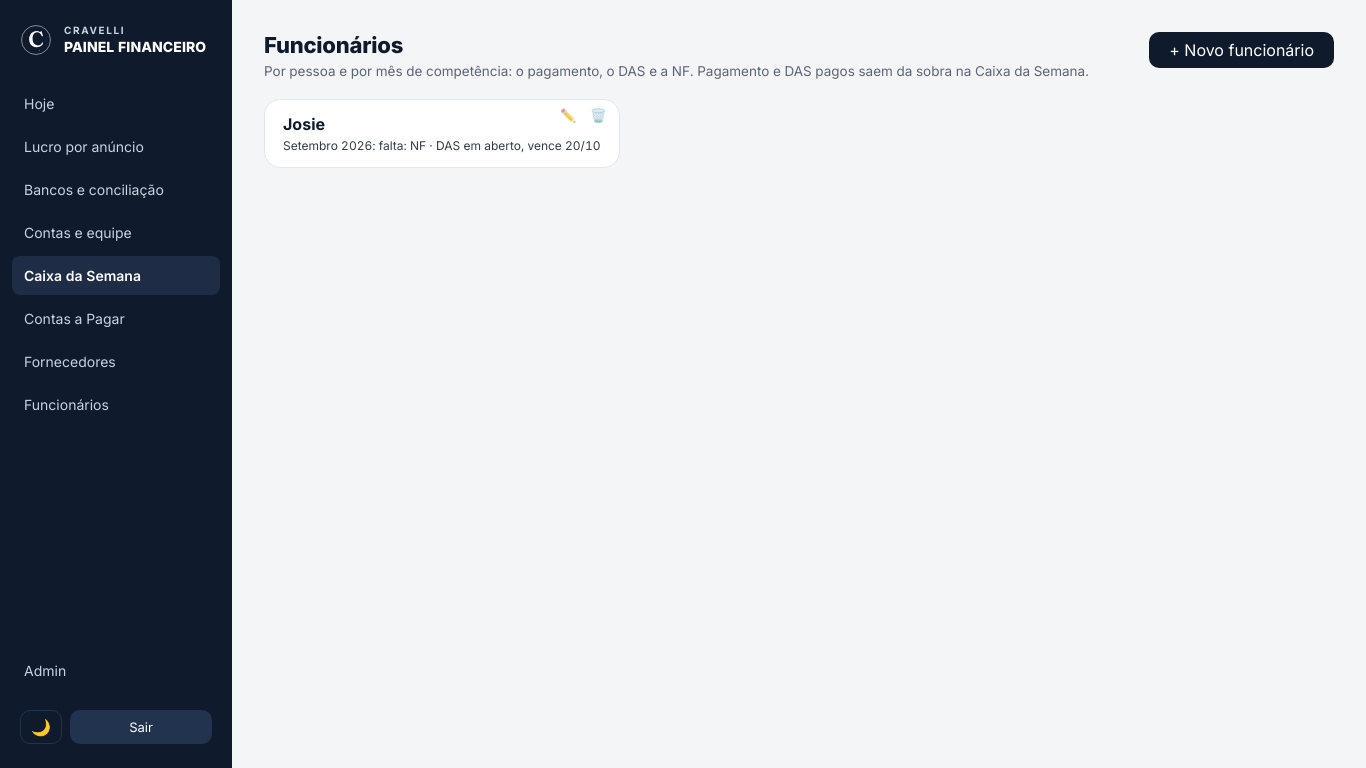
Test case: Funcionários › erro de carga some quando a carga seguinte dá certo
Click the text "Josie" at (304, 124), box [283,114,325,134]
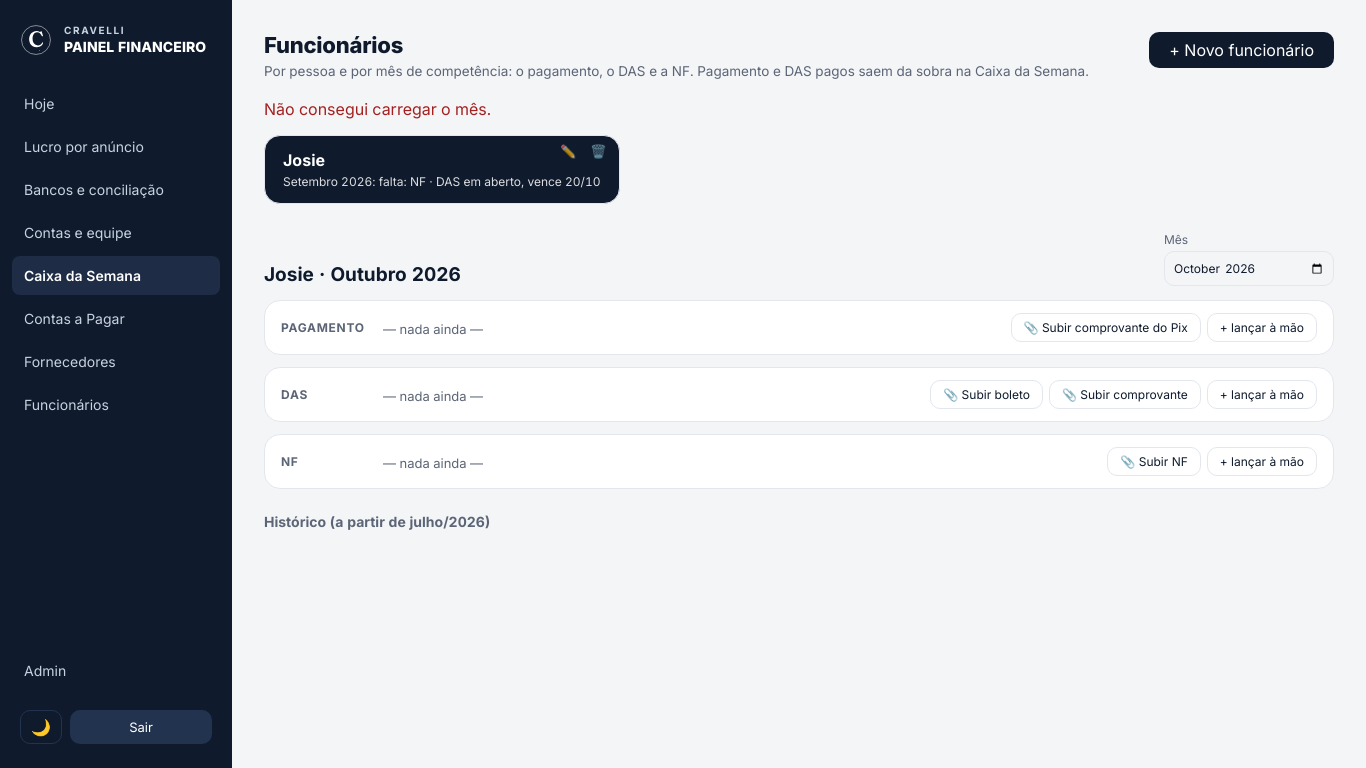
Result: the text "Não consegui carregar o mês." is shown at [264,99,491,119]
Replace the text in the field labelled "Mês" with "2026-08" at (1249, 268), box [1164,251,1334,286]
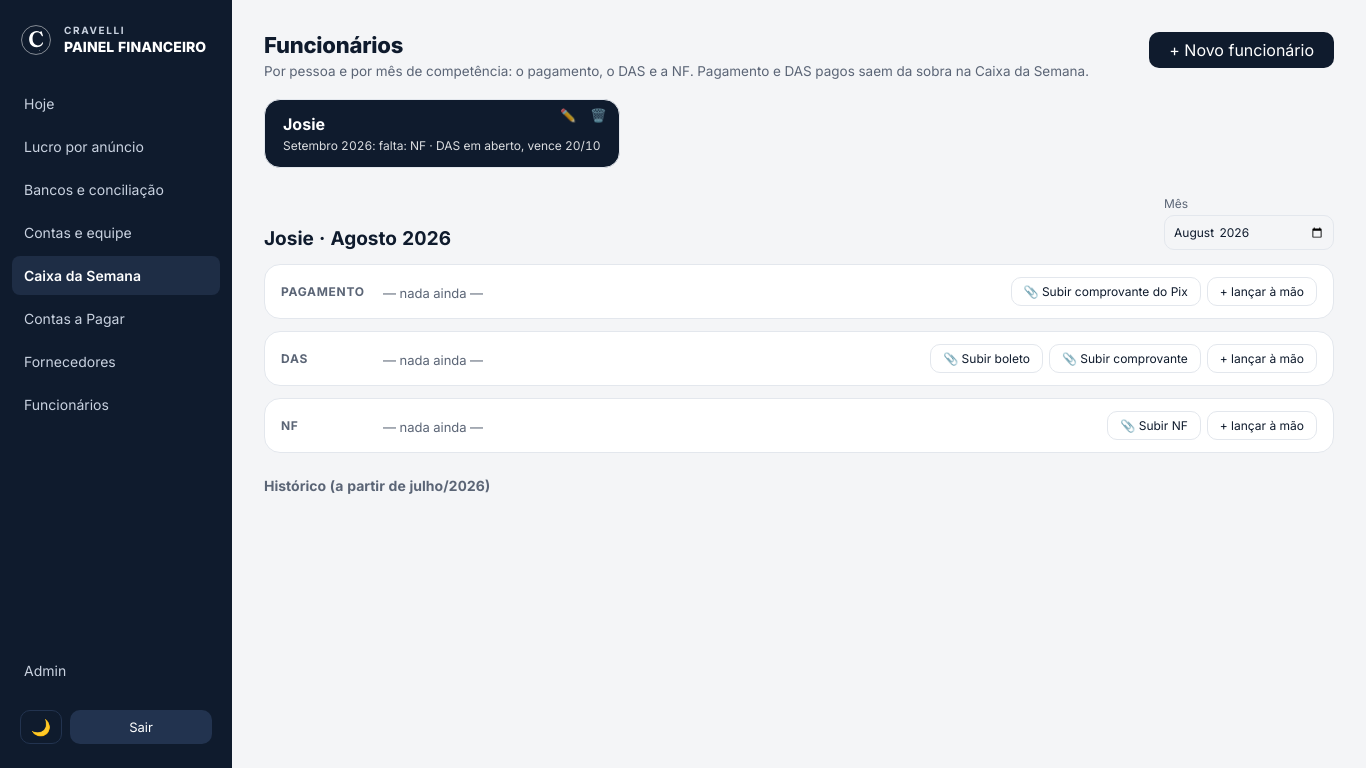
Result: the text "Não consegui carregar o mês." is gone
